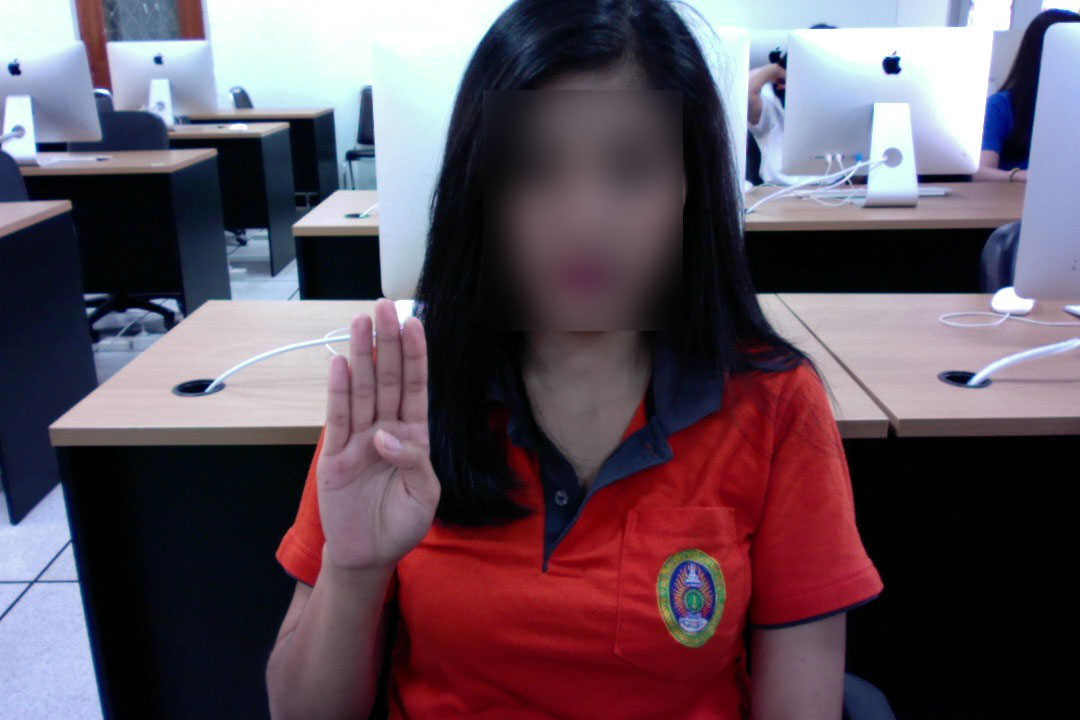bor: (312, 291, 445, 592)
